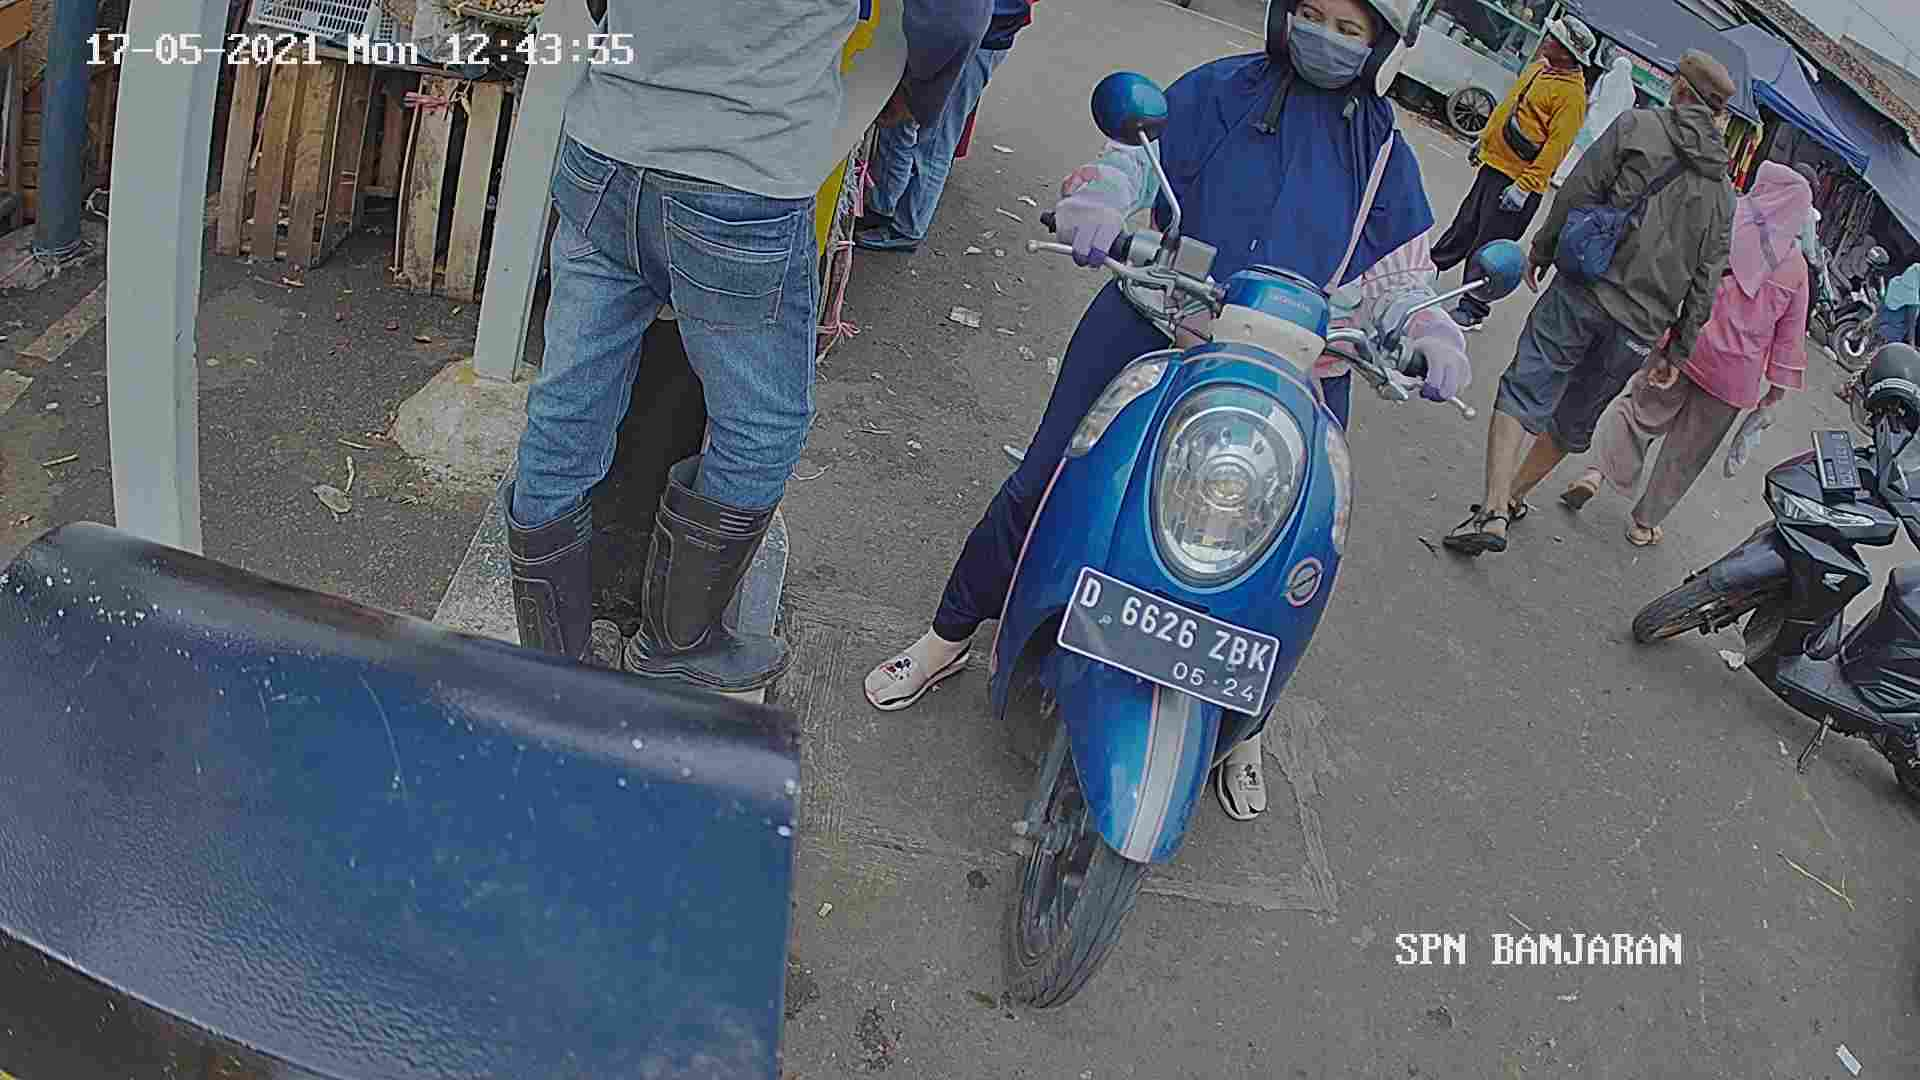motor: (942, 199, 1433, 1007)
